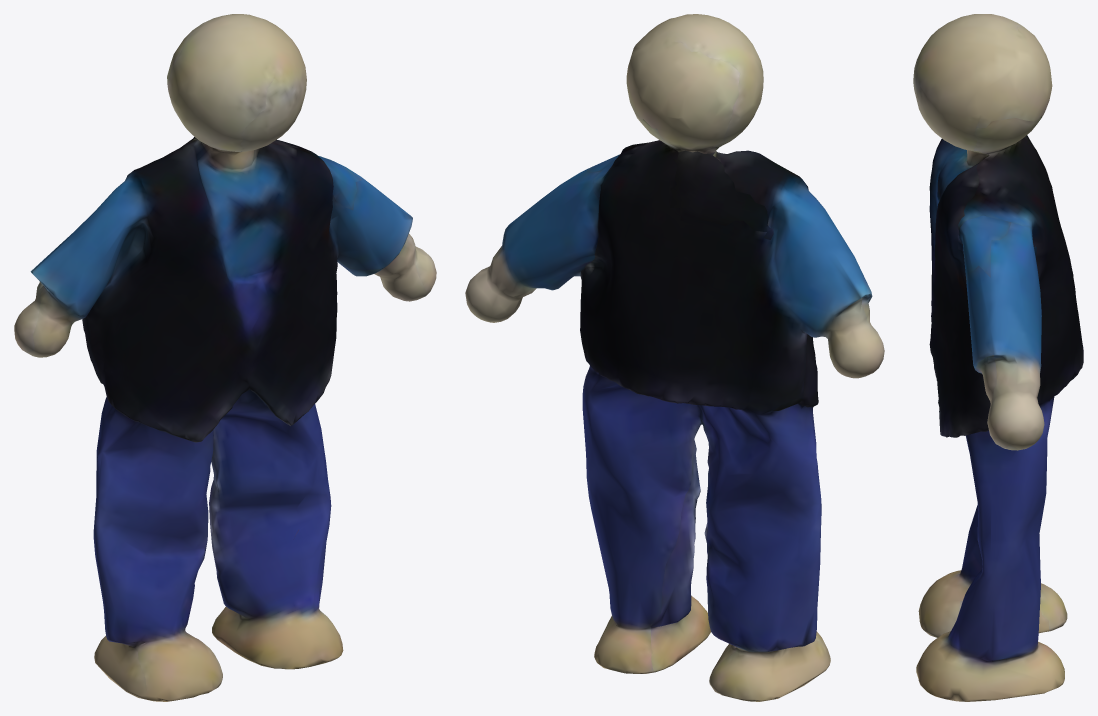
File: GRANDFATHER_DOLL-high.glb
The picture shows the model from 3 angles, left to right: view 1: azimuth 30°, elevation 25°; view 2: azimuth 150°, elevation 25°; view 3: azimuth 270°, elevation 25°; orthographic projection.
Parts seen in each view (by area): view 1: GRANDFATHER_DOLL; view 2: GRANDFATHER_DOLL; view 3: GRANDFATHER_DOLL.
Part boxes in pixels (x1,y1,x2,y2): GRANDFATHER_DOLL: [14, 14, 436, 701]; GRANDFATHER_DOLL: [465, 14, 884, 701]; GRANDFATHER_DOLL: [913, 14, 1083, 701].
Size of the model in its own units: 0.088 by 0.129 by 0.0312.
Materials: 1 (1 with a texture image).
